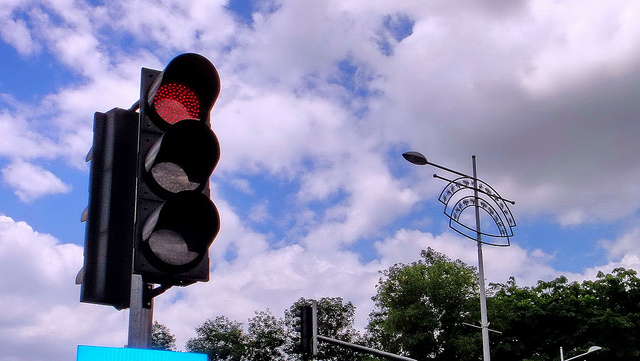Traffic Light: (134, 64, 221, 287)
